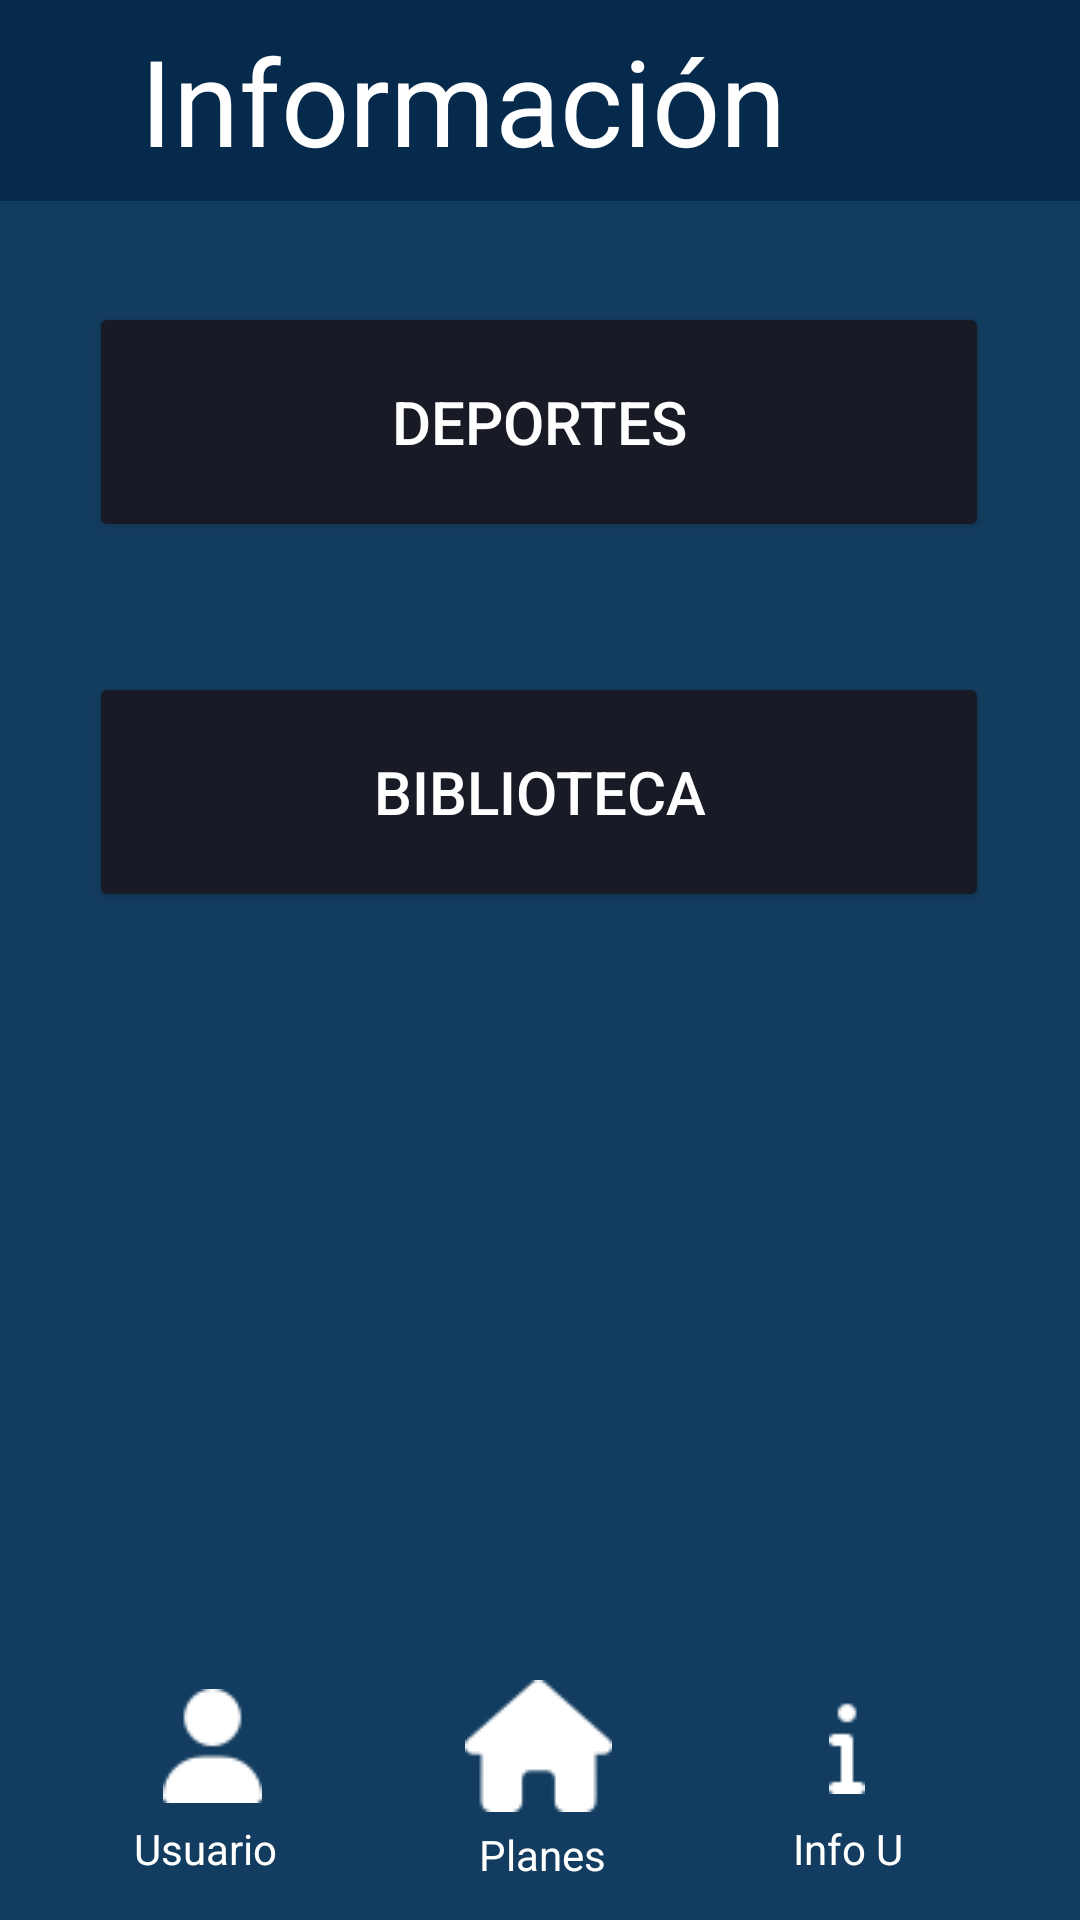

Icons on this 1080px×1920px Android screen, each with its box as (x1, y1, x2, y2):
casarelleno: (465, 1680, 612, 1812)
